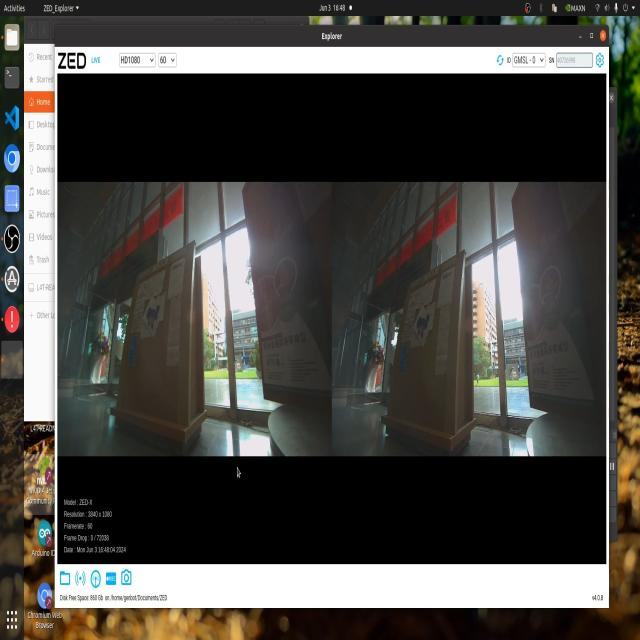blue: (138, 299, 162, 334), (420, 304, 434, 349)
